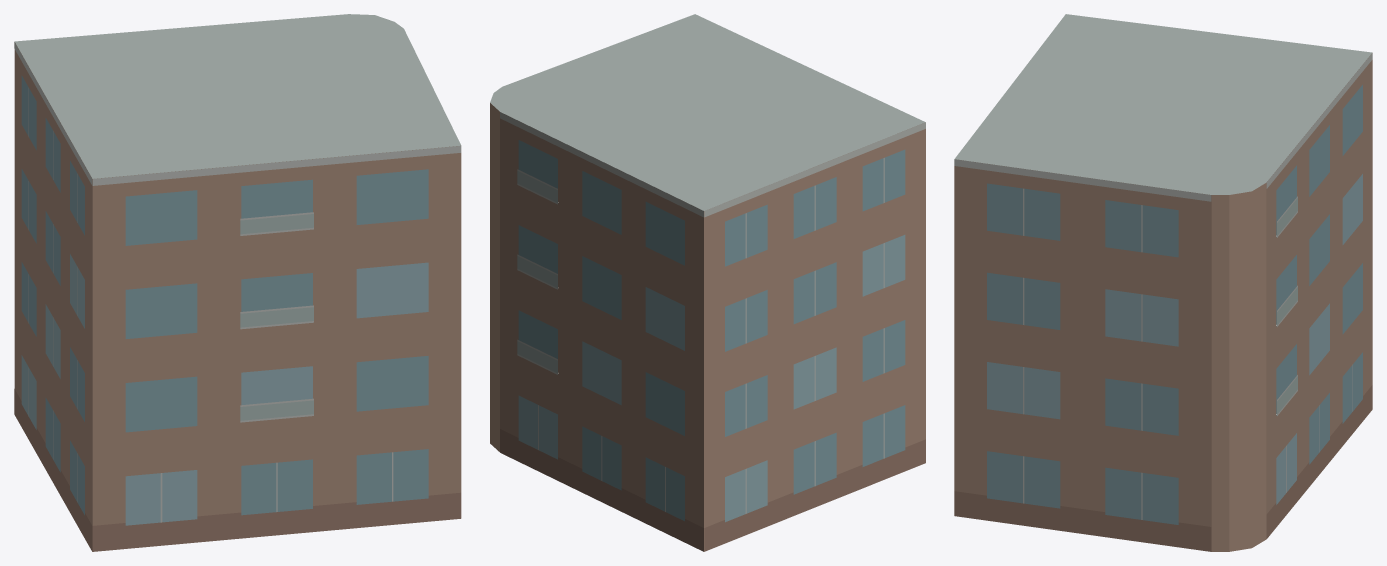
The model's file is survey-upis-32970985.glb.
3 renders of one model, left to right at view 1: azimuth 30°, elevation 25°; view 2: azimuth 150°, elevation 25°; view 3: azimuth 270°, elevation 25°, orthographic. The views are drawn at different scales.
Visible parts, largest first — view 1: survey-upis-32970985.tmp; view 2: survey-upis-32970985.tmp; view 3: survey-upis-32970985.tmp.
Part boxes in pixels (<box>): survey-upis-32970985.tmp: <box>14,14,461,551</box>; survey-upis-32970985.tmp: <box>490,14,925,551</box>; survey-upis-32970985.tmp: <box>954,14,1372,551</box>.
Size of the model in its own units: 13.93 by 12.8 by 13.6.
